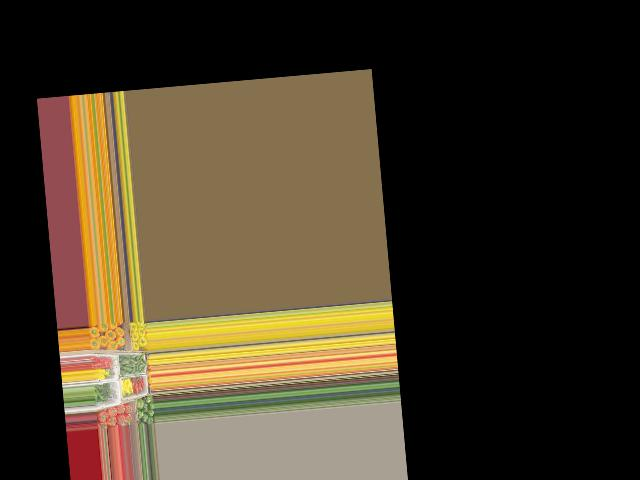bell_pepper: (135, 408, 147, 419)
